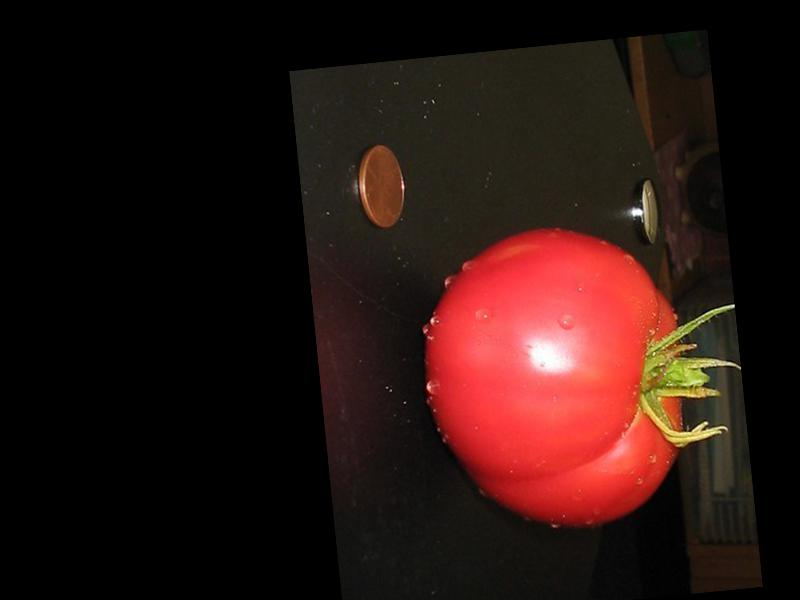Tomato: (411, 217, 698, 542)
